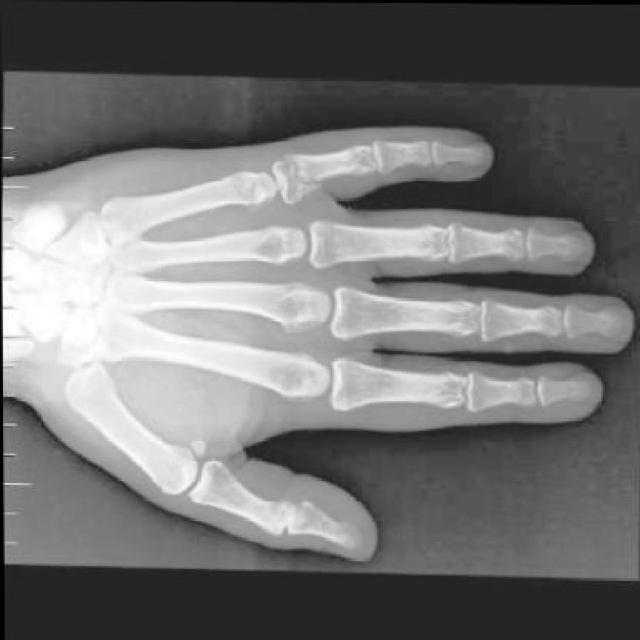bone: (285, 148, 327, 185)
